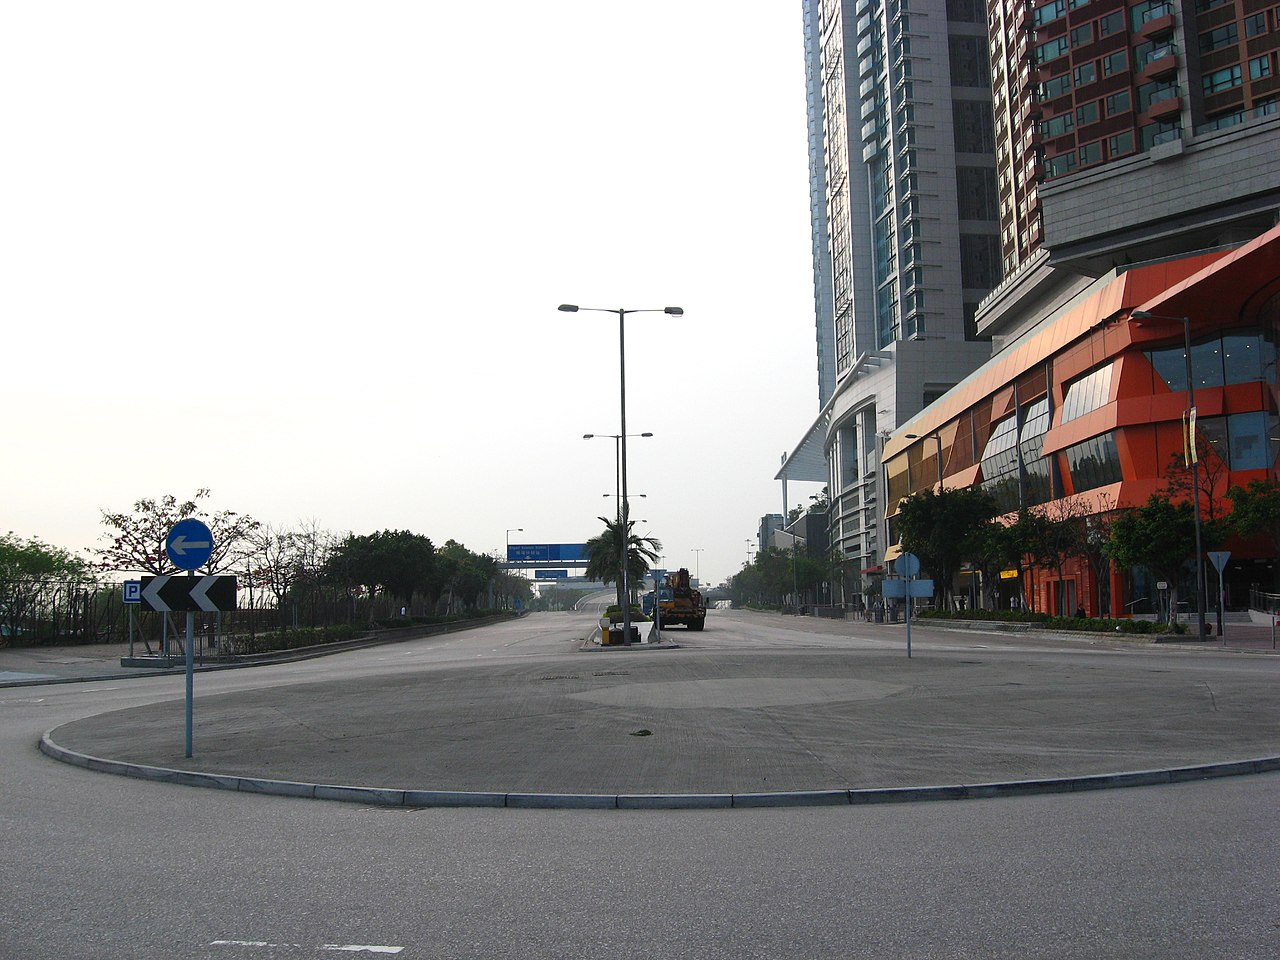Turn Left: (165, 520, 214, 570)
Turn Left(quick): (139, 578, 241, 613)
